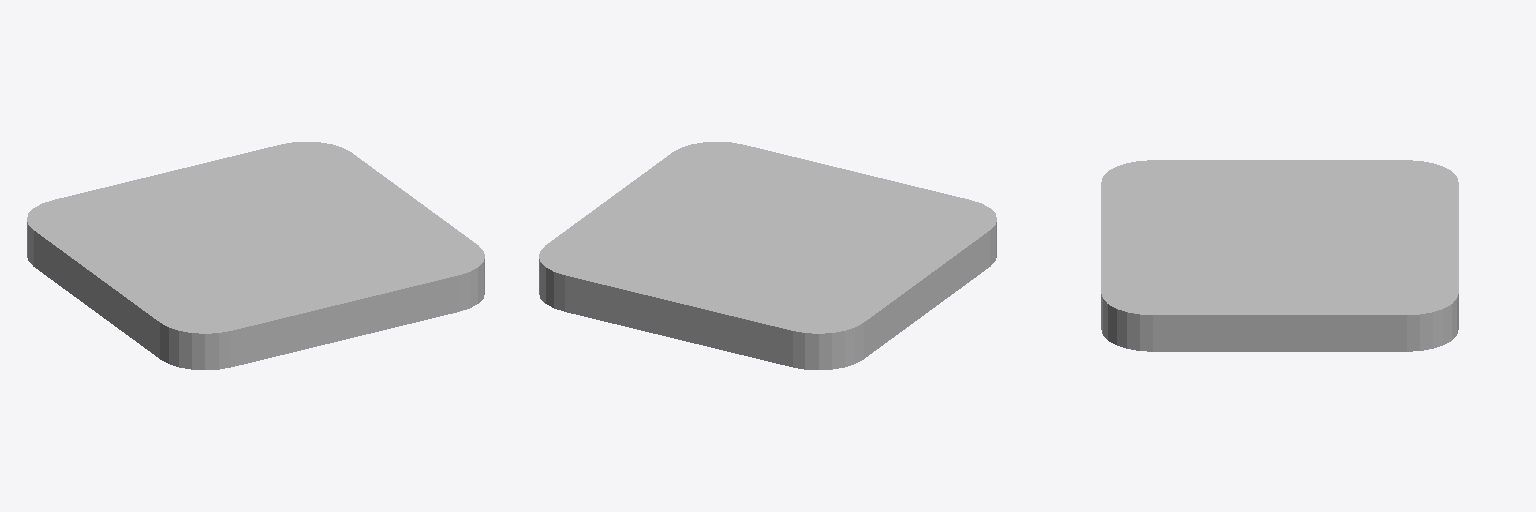
The model's file is original-32.obj.
3 views of the same model, side by side, from view 1: azimuth 30°, elevation 25°; view 2: azimuth 150°, elevation 25°; view 3: azimuth 270°, elevation 25° (orthographic).
Visible parts, largest first — view 1: mesh31/mesh31-geometry#mesh31-geometry; view 2: mesh31/mesh31-geometry#mesh31-geometry; view 3: mesh31/mesh31-geometry#mesh31-geometry.
Part boxes in pixels (bbox=[...]): mesh31/mesh31-geometry#mesh31-geometry: bbox=[27, 142, 484, 369]; mesh31/mesh31-geometry#mesh31-geometry: bbox=[539, 142, 996, 369]; mesh31/mesh31-geometry#mesh31-geometry: bbox=[1101, 160, 1458, 351].
Size of the model in its own units: 0.0583 by 0.0064 by 0.0568.